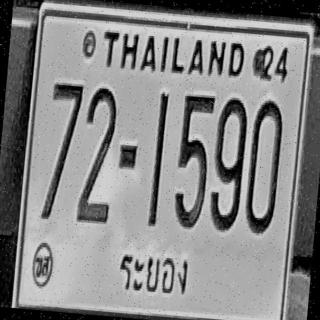N00: (244, 97, 285, 234)
N01: (147, 92, 168, 228)
N02: (76, 84, 119, 223)
N05: (172, 91, 216, 230)
N07: (40, 80, 83, 221)
N09: (208, 95, 249, 232)
P53: (112, 240, 196, 306)
